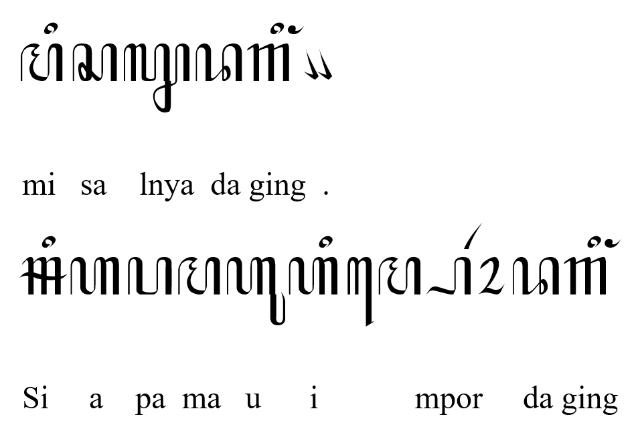S: (19, 257, 67, 295)
_p: (425, 256, 471, 296)
_r1: (463, 222, 483, 250)
d: (512, 256, 560, 296), (195, 43, 243, 81)
e1: (346, 256, 374, 328)
g: (564, 256, 608, 296), (247, 42, 290, 82)
h: (288, 256, 338, 296), (70, 257, 120, 295)
hu: (226, 257, 286, 327)
i: (319, 235, 333, 249), (44, 22, 60, 34), (42, 235, 56, 248), (271, 22, 285, 34), (587, 236, 601, 248)
kom: (303, 48, 319, 80), (318, 48, 332, 80)
lny: (124, 43, 190, 113)
m: (177, 256, 221, 297), (378, 256, 422, 296), (19, 42, 62, 82)
ng: (604, 238, 622, 248), (288, 25, 304, 35)
o: (478, 257, 504, 295)
p: (128, 256, 172, 296)
s: (72, 42, 118, 82)
